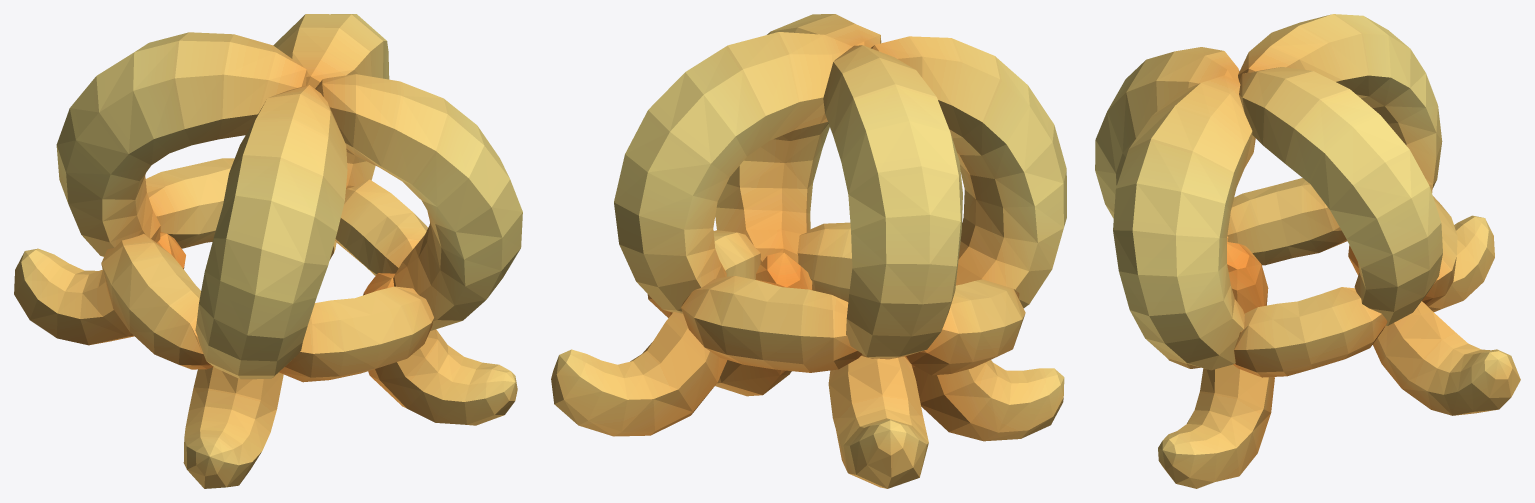
File: CharSkyKid_Horn_BalloonJellyfish.glb
3 views of the same model, side by side, from view 1: azimuth 30°, elevation 25°; view 2: azimuth 150°, elevation 25°; view 3: azimuth 270°, elevation 25° (orthographic). The views are drawn at different scales.
Parts seen in each view (by area): view 1: CharSkyKid_Horn_BalloonJellyfish; view 2: CharSkyKid_Horn_BalloonJellyfish; view 3: CharSkyKid_Horn_BalloonJellyfish.
Boxes of the visible parts, x1=… form: CharSkyKid_Horn_BalloonJellyfish: x1=14, y1=14, x2=522, y2=488; CharSkyKid_Horn_BalloonJellyfish: x1=551, y1=14, x2=1066, y2=488; CharSkyKid_Horn_BalloonJellyfish: x1=1095, y1=14, x2=1520, y2=488.
Bounding box in the file's own units: 3.28 × 3.54 × 3.66.
Materials: 1 (1 with a texture image).
